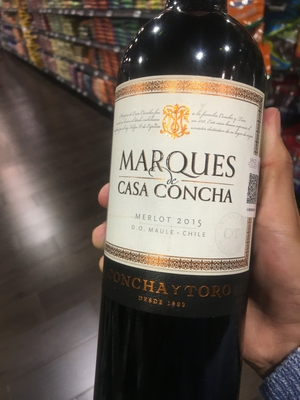marques de casa concha merlot: (64, 15, 276, 369)
